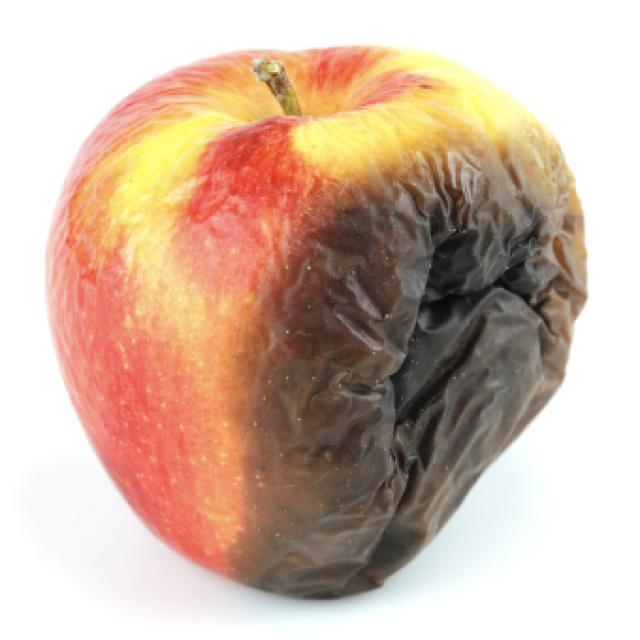Rotten: (53, 32, 597, 618)
